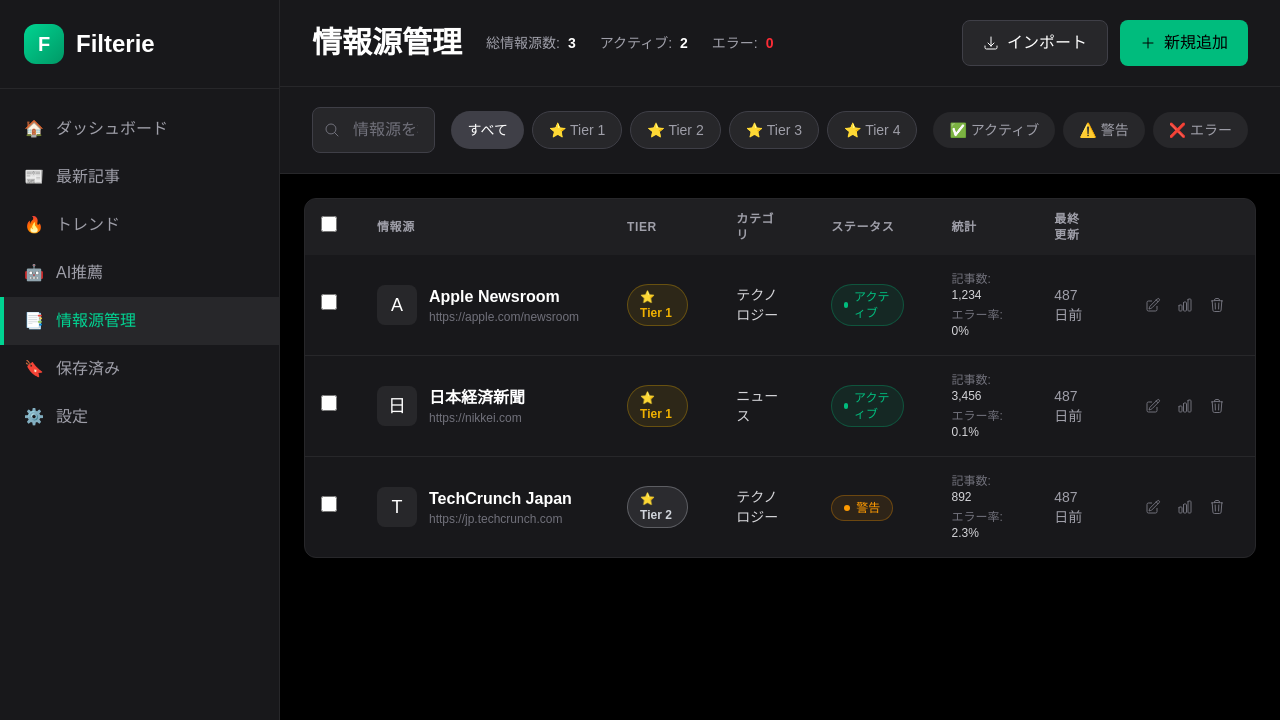
Test: SourcesPage › should filter sources by search query
This screenshot has width=1280, height=720.
Expected: the text "Apple Newsroom" is shown, top-left (429, 285), bottom-right (579, 309)
Type "Apple" into the field with placeholder "情報源を検索..." at (374, 130), box top-left (312, 107), bottom-right (435, 153)
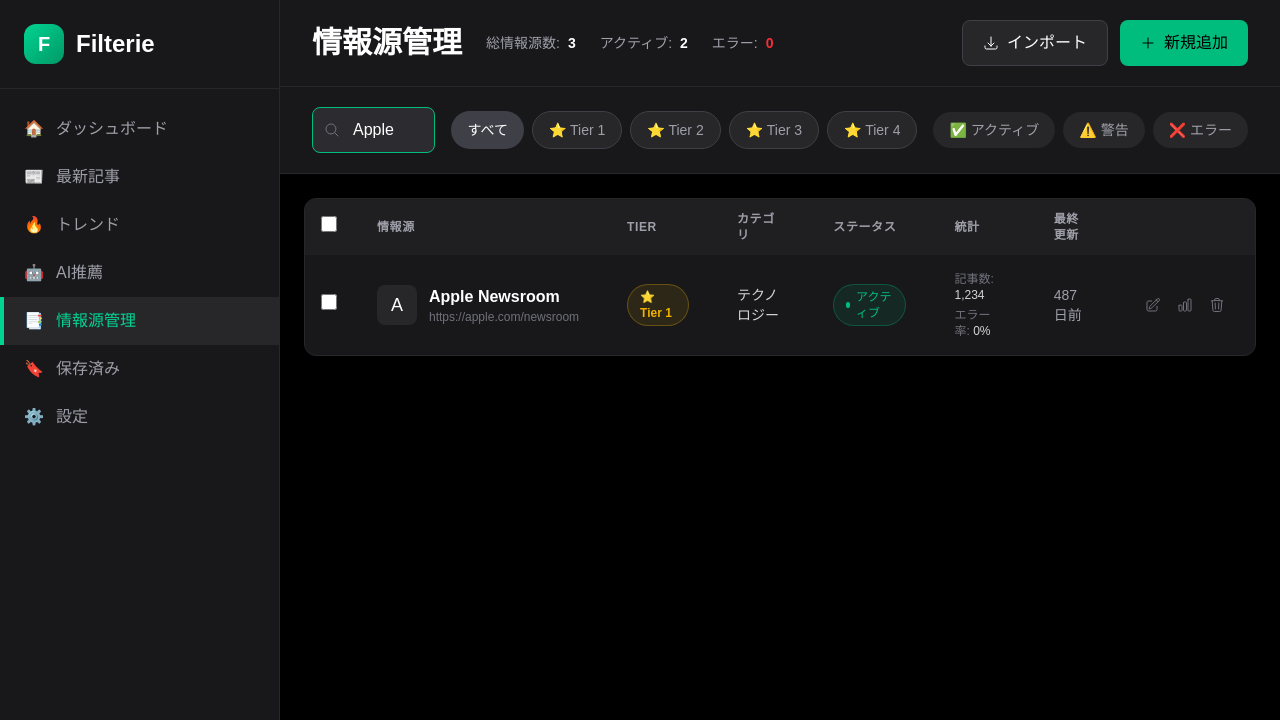
Expected: the text "Apple Newsroom" is shown, top-left (429, 285), bottom-right (579, 309)
Result: the text "日本経済新聞" is gone
Result: the text "TechCrunch Japan" is gone
